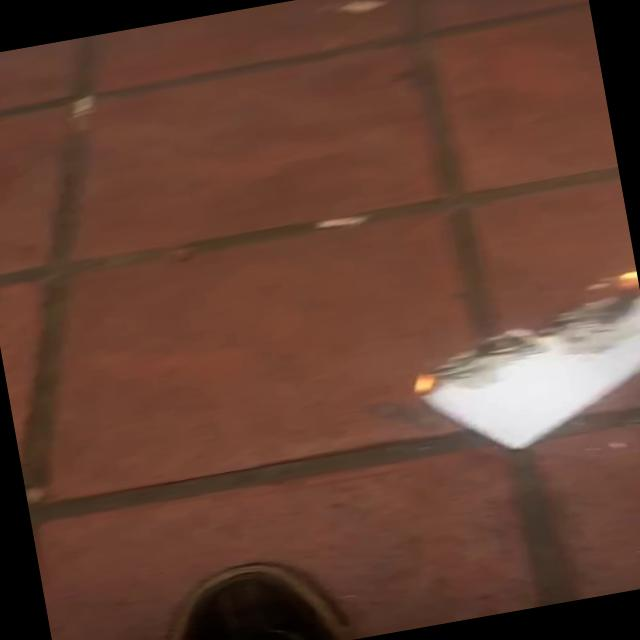Fire_Dangerous: (408, 371, 442, 398), (618, 265, 640, 294)
